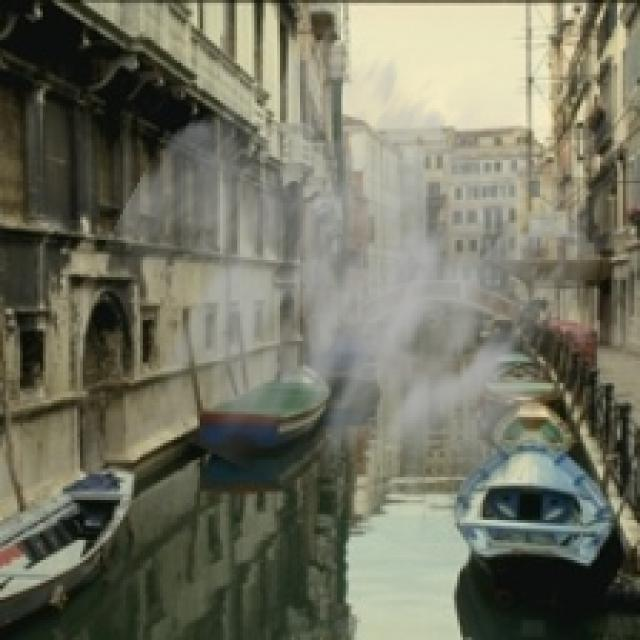Smoke: (83, 19, 632, 572)
